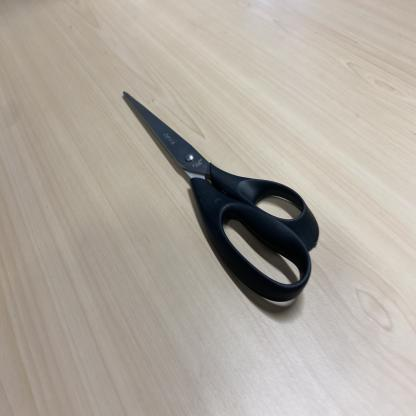scissors: (120, 90, 320, 303)
